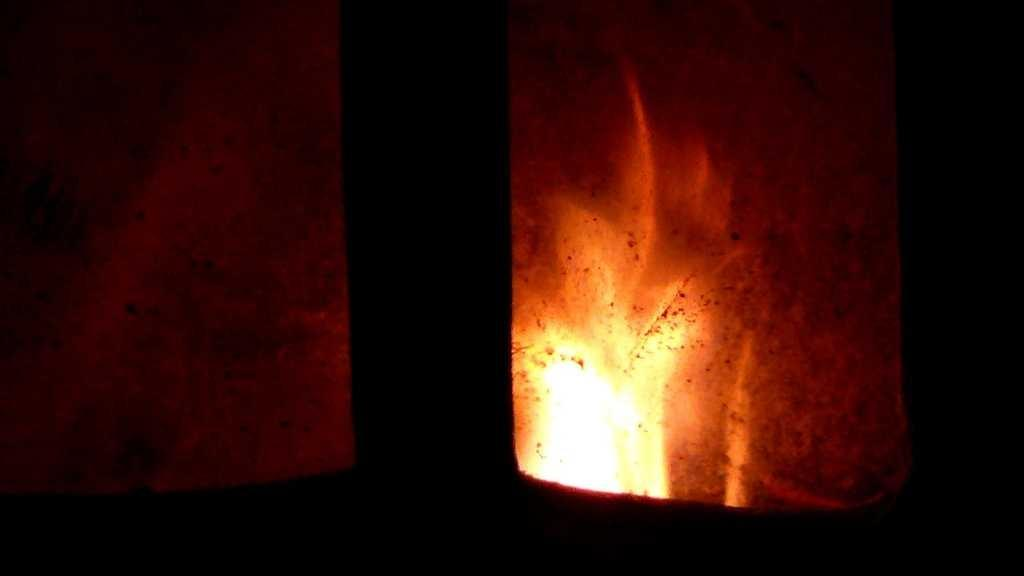fire: (535, 350, 663, 483)
